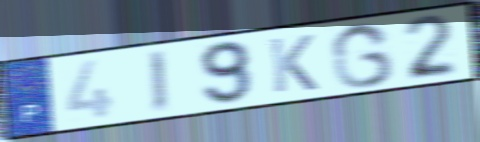2: (400, 13, 460, 84)
4: (63, 57, 117, 121)
9: (196, 38, 256, 107)
G: (328, 20, 397, 90)
I: (145, 47, 172, 115)
K: (266, 33, 321, 96)
